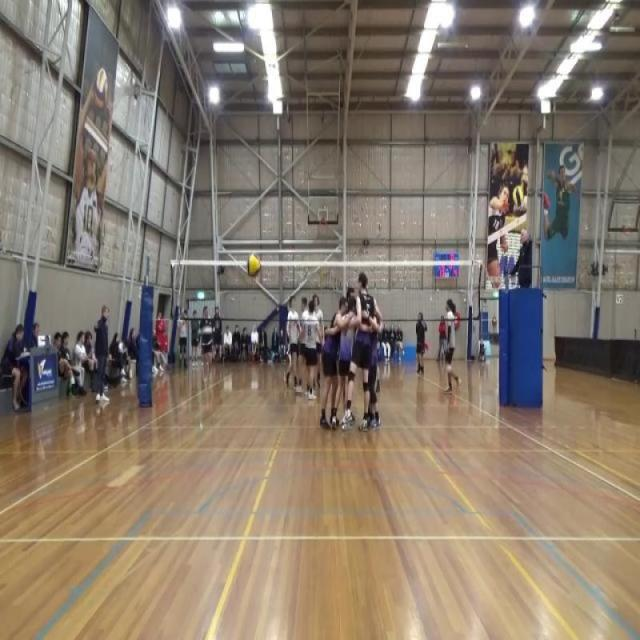volleyball: (94, 67, 109, 110), (246, 252, 262, 280), (512, 184, 524, 208)
